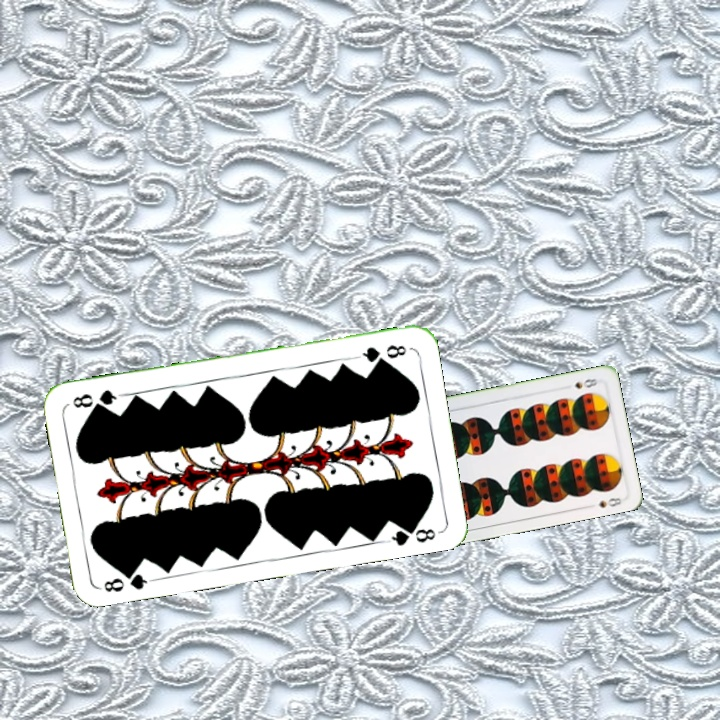G8: (97, 564, 156, 595), (353, 340, 409, 365)
S8: (570, 374, 602, 391)
